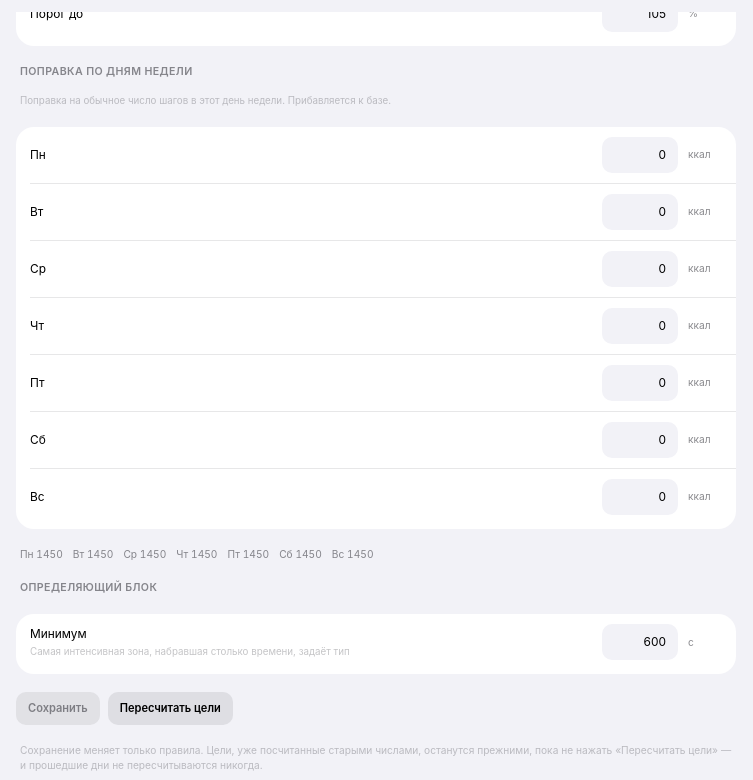
Test case: the weekday adjustment › never shows a base below zero
(page scrolled)
expect the text "Пн 1450" is shown: met, box 20,547 -> 63,562
Step 1. Replace the text in the field named "Пн" with "-2000" → (640, 155), box 602,137 -> 678,173
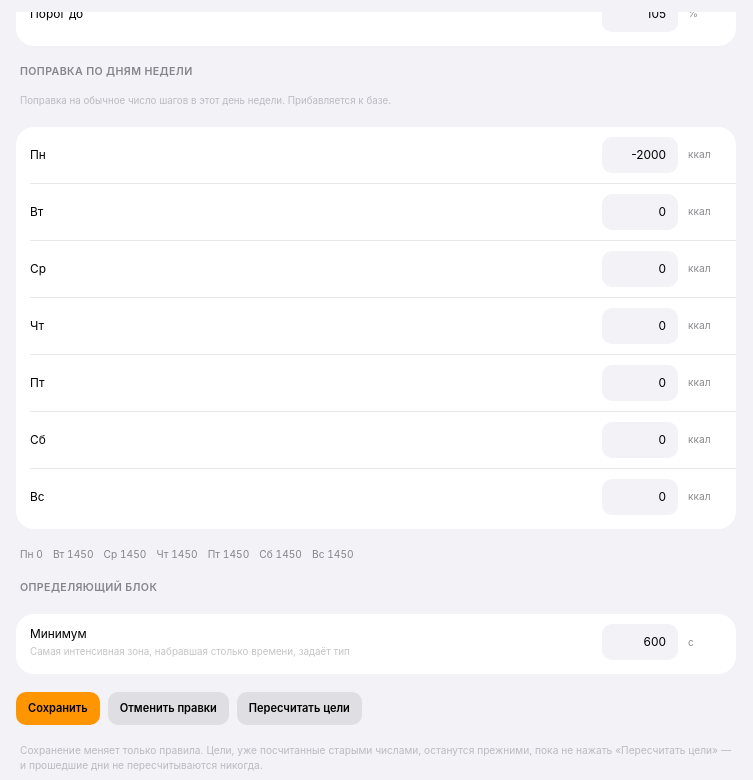
expect the text "Пн 0" is shown: met, box 20,547 -> 43,562
